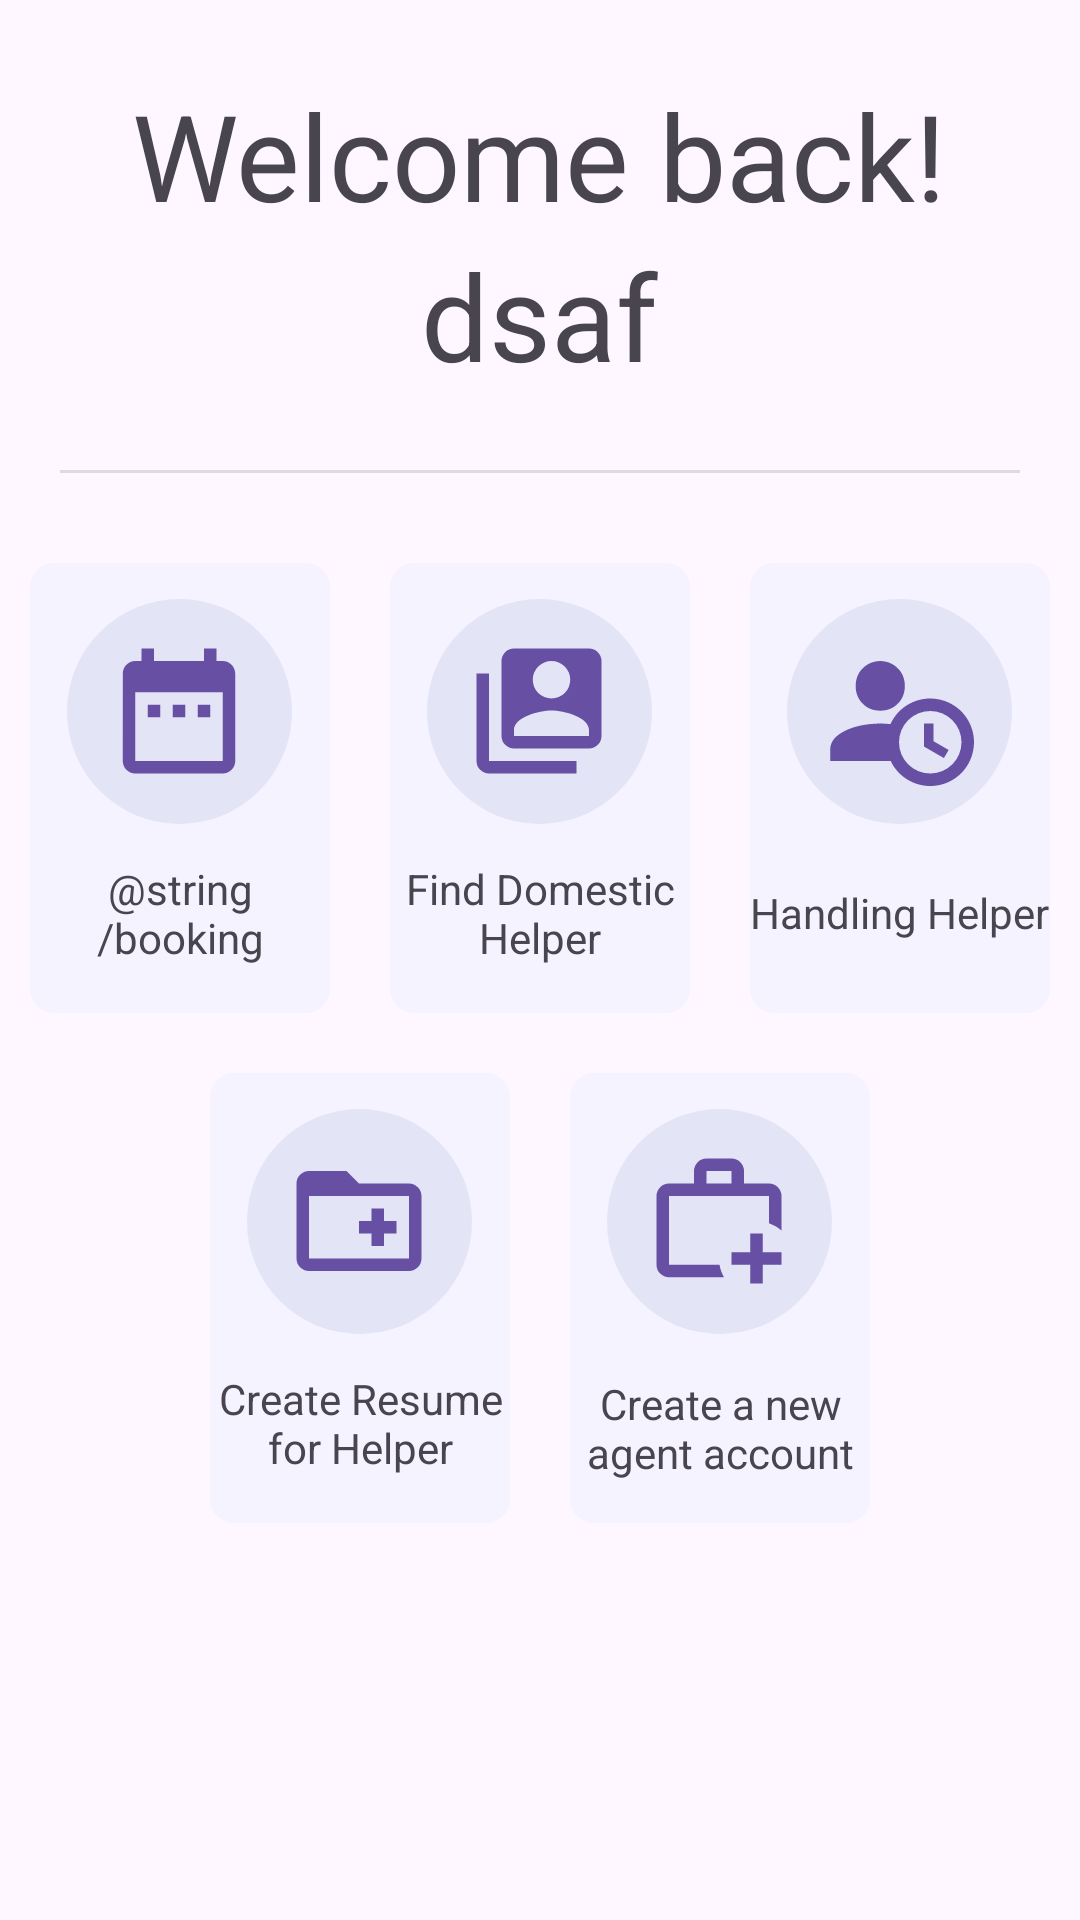

Icons on this 1080px x 1920px Android screen, each with its box as (x1, y1, x2, y2):
date surface tint: (122, 648, 236, 774)
menuicon add agent: (656, 1158, 782, 1284)
